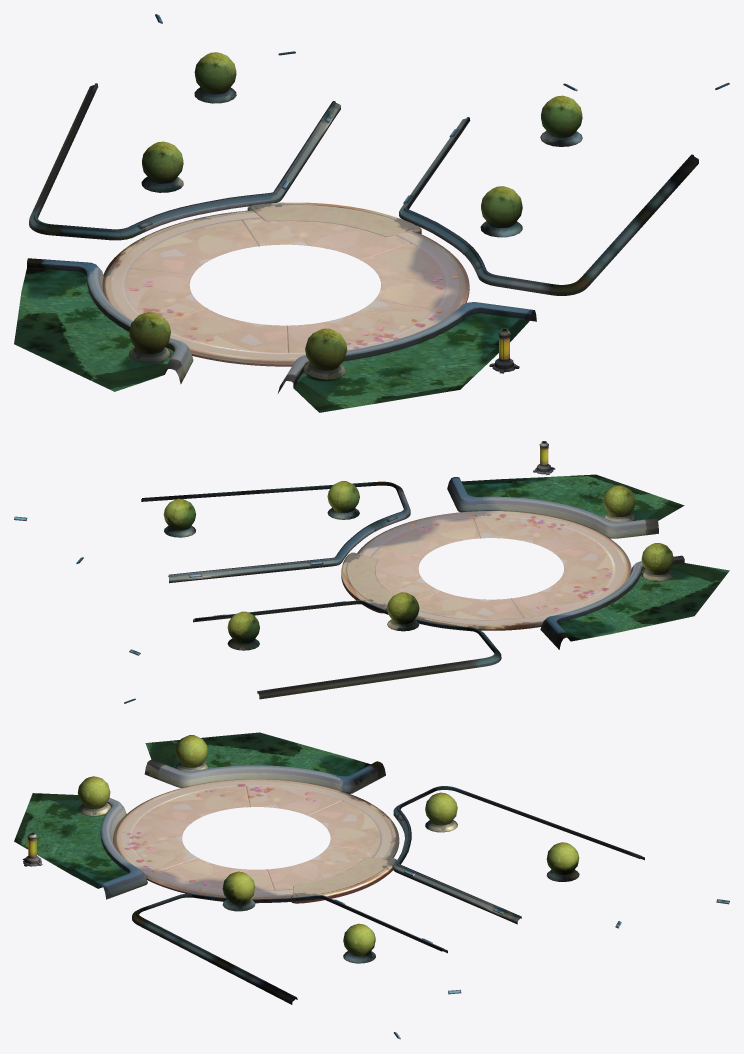
File: pref_sm_garden_props_vray_011_lv1.fbx
The picture shows the model from 3 angles, top to bottom: view 1: azimuth 30°, elevation 25°; view 2: azimuth 150°, elevation 25°; view 3: azimuth 270°, elevation 25°; orthographic projection. The views are drawn at different scales.
Visible parts, largest first — view 1: sm_garden_props_vray_011_lv1; view 2: sm_garden_props_vray_011_lv1; view 3: sm_garden_props_vray_011_lv1.
Part boxes in pixels (x1=…): sm_garden_props_vray_011_lv1: x1=14, y1=14, x2=729, y2=412; sm_garden_props_vray_011_lv1: x1=14, y1=441, x2=729, y2=703; sm_garden_props_vray_011_lv1: x1=14, y1=732, x2=729, y2=1039.
Size of the model in its own units: 28.97 by 2.09 by 28.76.
1 material, 1 textured.
